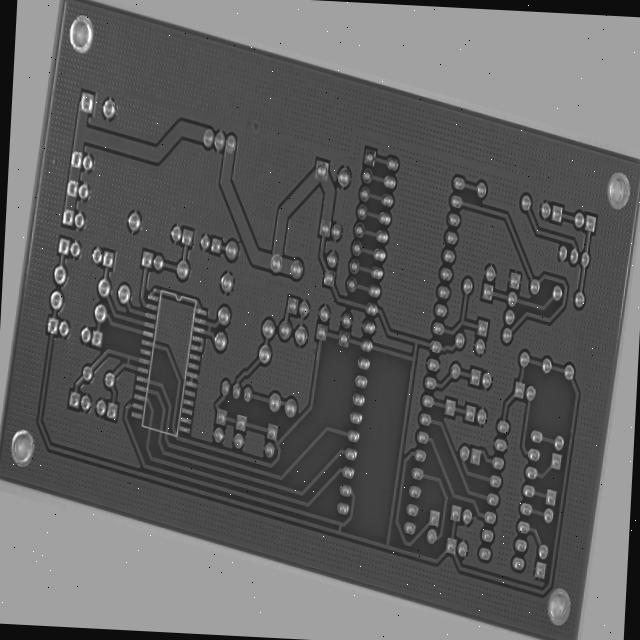short: (350, 557, 366, 582), (111, 413, 125, 439), (195, 352, 209, 373)
